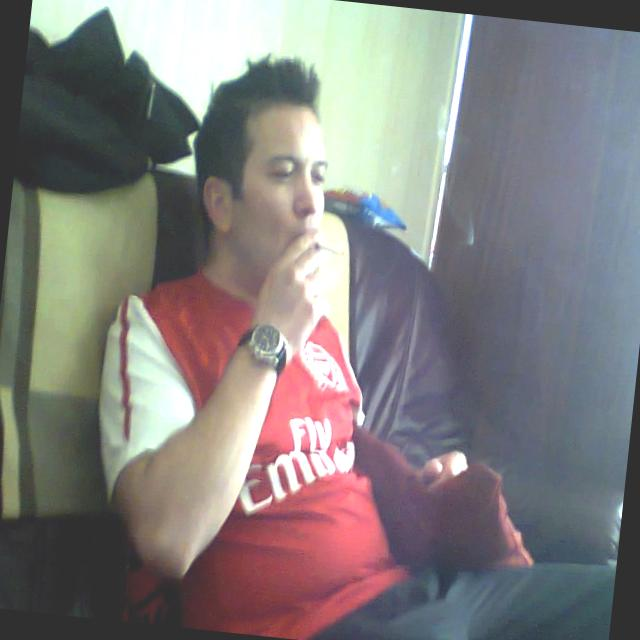cigarette: (307, 236, 370, 263)
